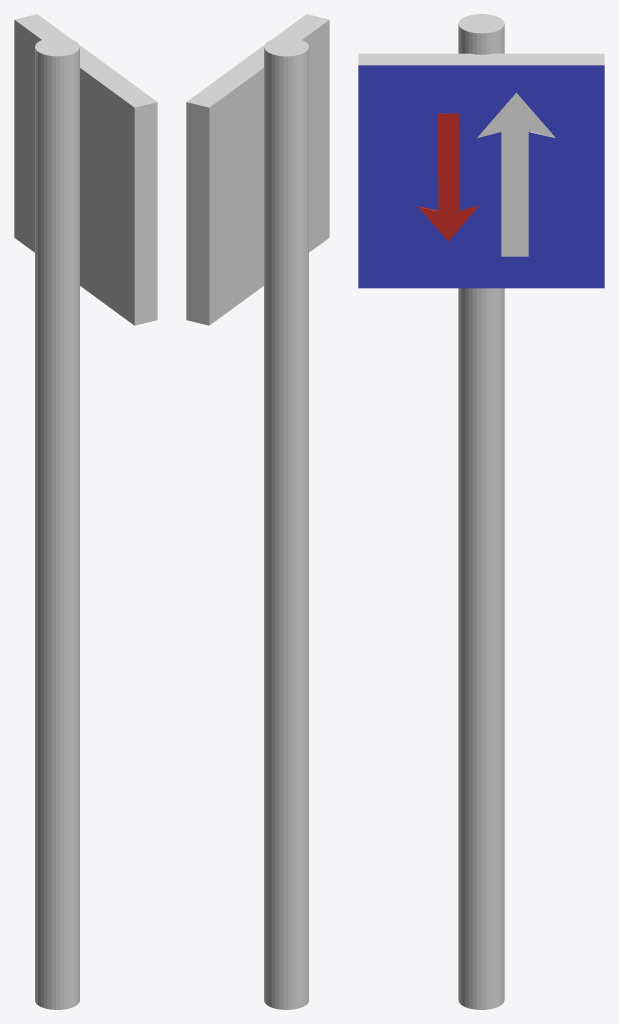
File: SignPriorityOverOncomingTraffic.fbx
The picture shows the model from 3 angles, left to right: view 1: azimuth 30°, elevation 25°; view 2: azimuth 150°, elevation 25°; view 3: azimuth 270°, elevation 25°; orthographic projection. The views are drawn at different scales.
Visible parts, largest first — view 1: Cylinder.008, SignSquare; view 2: Cylinder.008, SignSquare; view 3: SignSquare, Cylinder.008, Cube.003, Cube.004.
Boxes of the visible parts, box(x1,y1,x2,y2) form: Cylinder.008: box(35, 37, 79, 1009); SignSquare: box(14, 14, 157, 325); Cylinder.008: box(264, 37, 308, 1009); SignSquare: box(186, 14, 329, 325); SignSquare: box(358, 53, 604, 288); Cylinder.008: box(458, 14, 504, 1009); Cube.003: box(477, 92, 555, 256); Cube.004: box(417, 113, 478, 241).
Size of the model in its own units: 110 by 1671 by 382.
